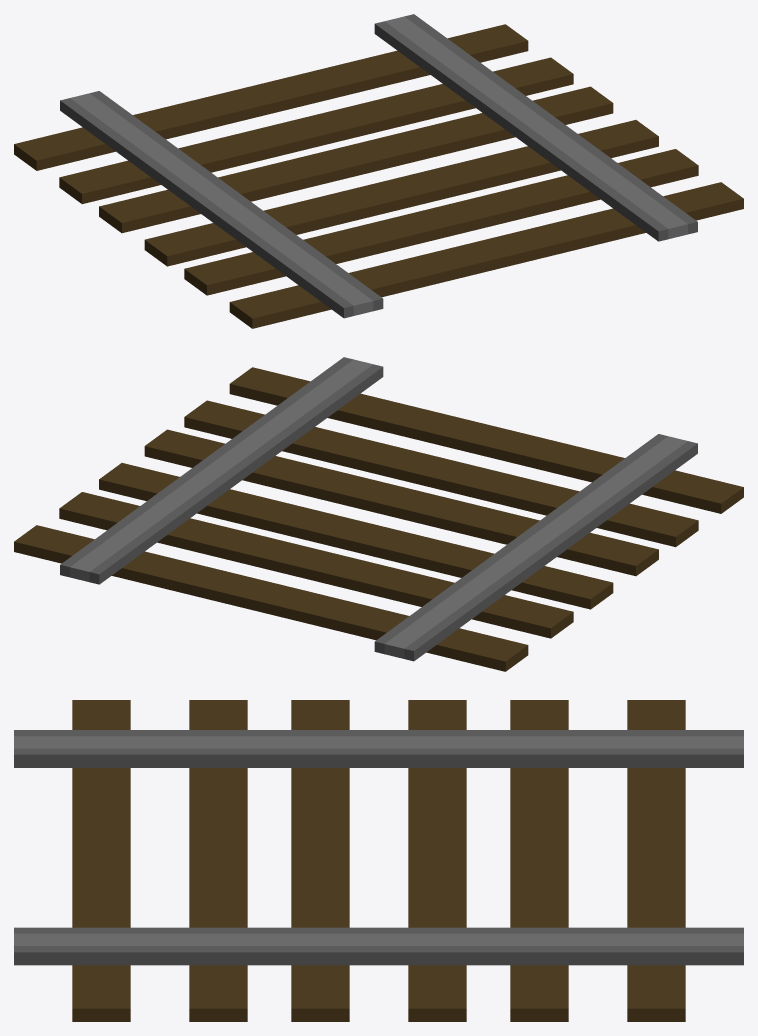
File: rails 2.obj
3 views of the same model, one above another, from view 1: azimuth 30°, elevation 25°; view 2: azimuth 150°, elevation 25°; view 3: azimuth 270°, elevation 25° (orthographic). The views are drawn at different scales.
Size of the model in its own units: 5 by 0.2 by 5.
1 material, 1 textured.
